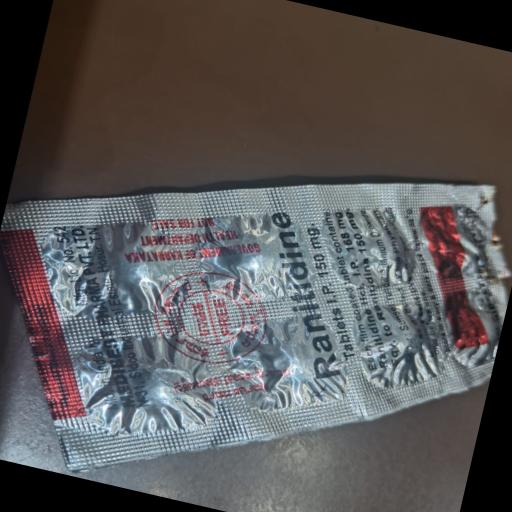medicine: (0, 176, 510, 473)
ranitidine: (232, 193, 396, 398)
